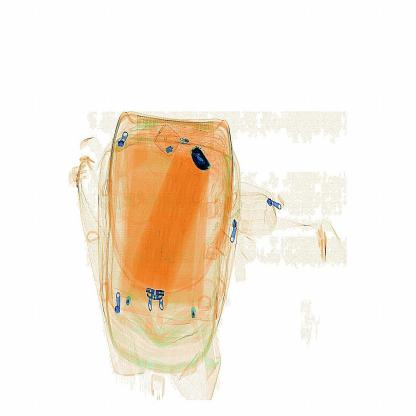scissors: (177, 144, 215, 173)
